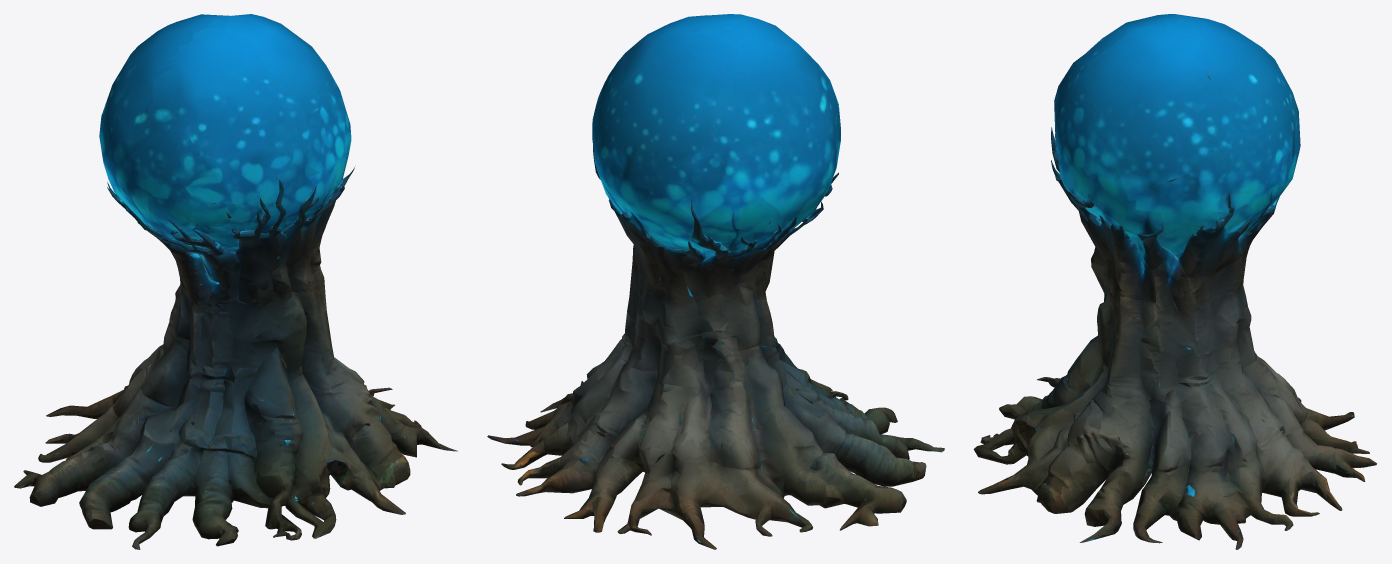
File: plant_alien.glb
3 views of the same model, side by side, from view 1: azimuth 30°, elevation 25°; view 2: azimuth 150°, elevation 25°; view 3: azimuth 270°, elevation 25° (orthographic).
Visible parts, largest first — view 1: output_unwrapped; view 2: output_unwrapped; view 3: output_unwrapped.
Part boxes in pixels (x1,y1,x2,y2): output_unwrapped: (14,14,457,549); output_unwrapped: (487,14,944,549); output_unwrapped: (973,14,1376,549).
Bounding box in the file's own units: 1.77 × 1.9 × 1.62.
Materials: 1 (1 with a texture image).
